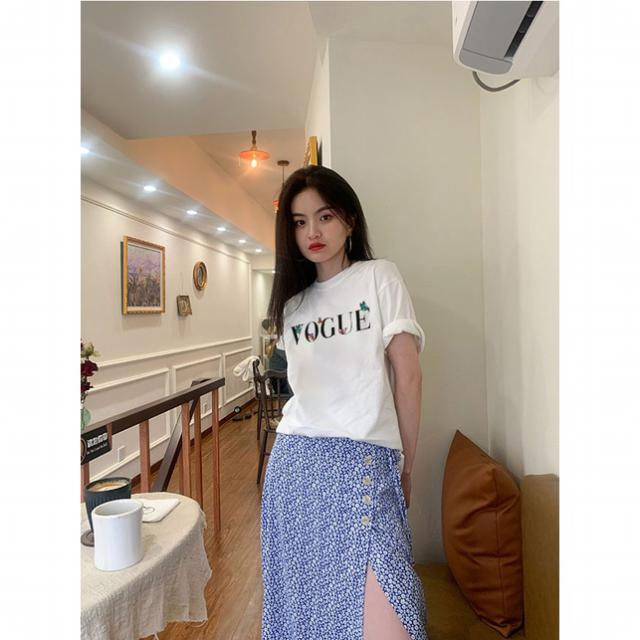Shirt: (265, 248, 429, 451)
